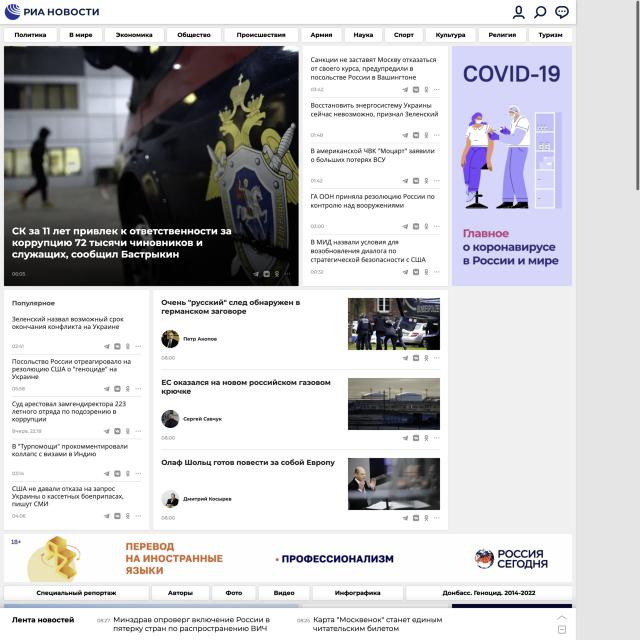logo: (3, 4, 102, 22)
navigation: (3, 28, 573, 44)
